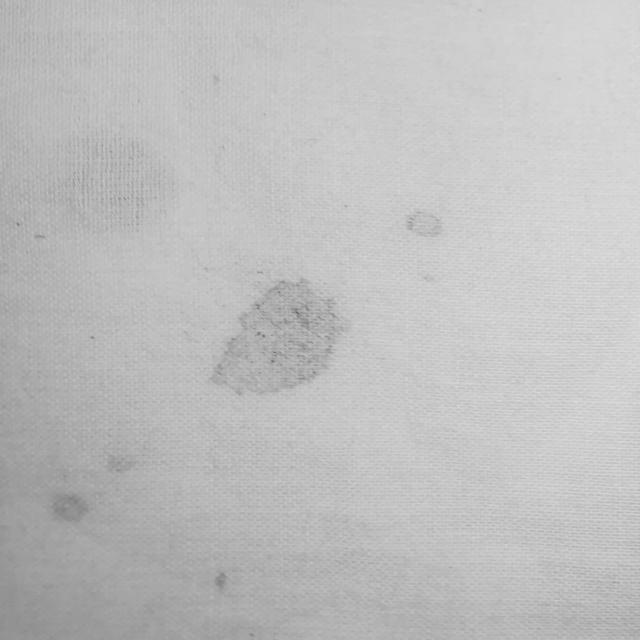Stain: (210, 280, 343, 394), (62, 133, 175, 231), (49, 492, 92, 524), (406, 211, 443, 236), (105, 454, 137, 477), (213, 573, 228, 594), (422, 273, 437, 283)
